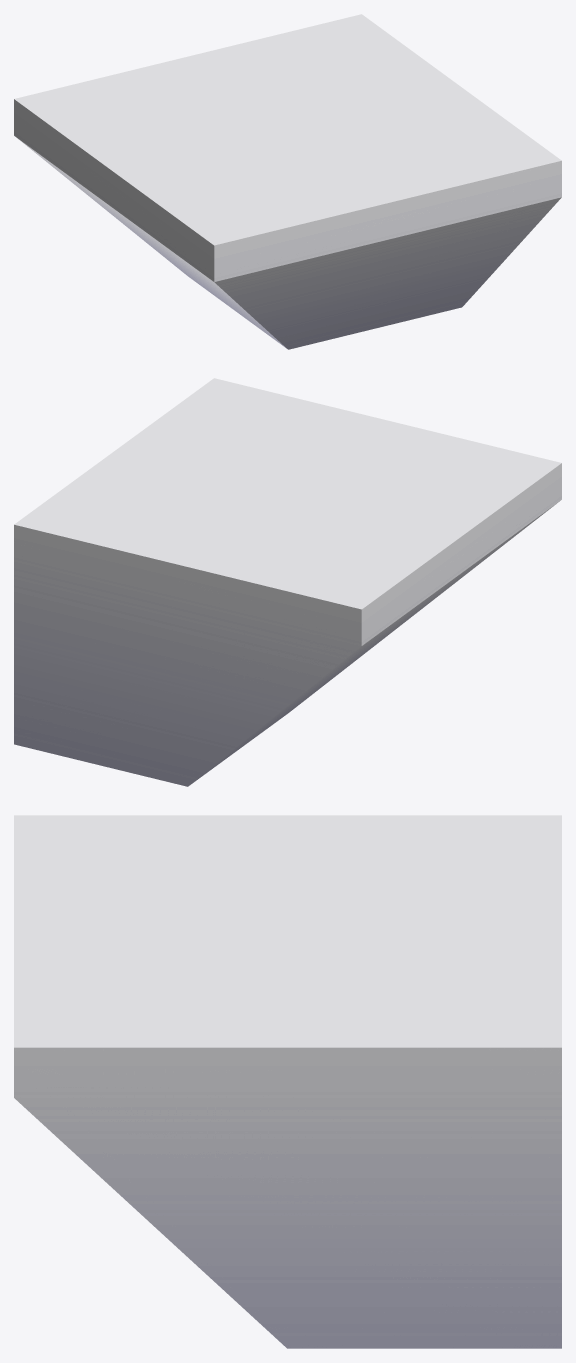
Rendered from brick-kit--none-lq-brick-slope-corner-outside-inverted-2x2.glb.
The picture shows the model from 3 angles, top to bottom: view 1: azimuth 30°, elevation 25°; view 2: azimuth 150°, elevation 25°; view 3: azimuth 270°, elevation 25°; orthographic projection. The views are drawn at different scales.
Visible parts, largest first — view 1: none-lq-brick-slope-corner-outside-inverted-2x2; view 2: none-lq-brick-slope-corner-outside-inverted-2x2; view 3: none-lq-brick-slope-corner-outside-inverted-2x2.
Part boxes in pixels (x1,y1,x2,y2): none-lq-brick-slope-corner-outside-inverted-2x2: (14, 14, 561, 349); none-lq-brick-slope-corner-outside-inverted-2x2: (14, 378, 561, 786); none-lq-brick-slope-corner-outside-inverted-2x2: (14, 815, 561, 1348).
Size of the model in its own units: 0.159 by 0.096 by 0.1585.
Materials: 1 (1 with a texture image).
